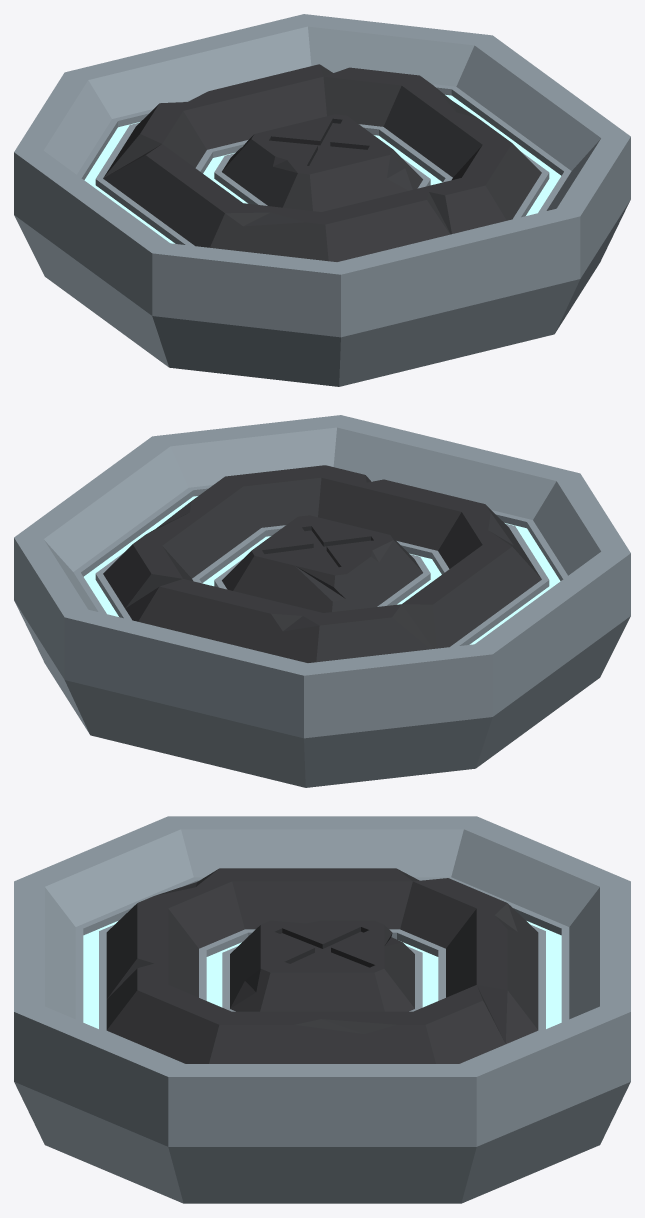
The model's file is Jump_Pad.fbx.
3 views of the same model, one above another, from view 1: azimuth 30°, elevation 25°; view 2: azimuth 150°, elevation 25°; view 3: azimuth 270°, elevation 25° (orthographic). The views are drawn at different scales.
Visible parts, largest first — view 1: Jump_Pad; view 2: Jump_Pad; view 3: Jump_Pad.
Part boxes in pixels (x1,y1,x2,y2): Jump_Pad: (14,14,630,386); Jump_Pad: (14,415,630,787); Jump_Pad: (14,816,630,1203).
Size of the model in its own units: 4 by 1 by 4.
